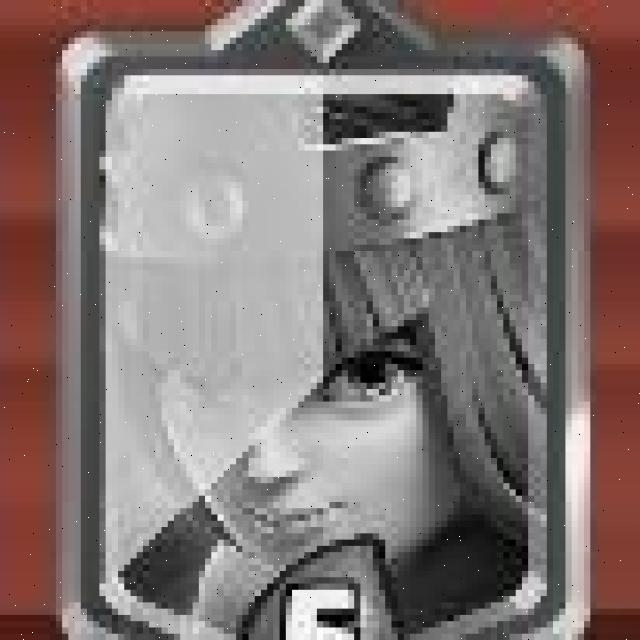Archer_Queen: (41, 0, 593, 639)
